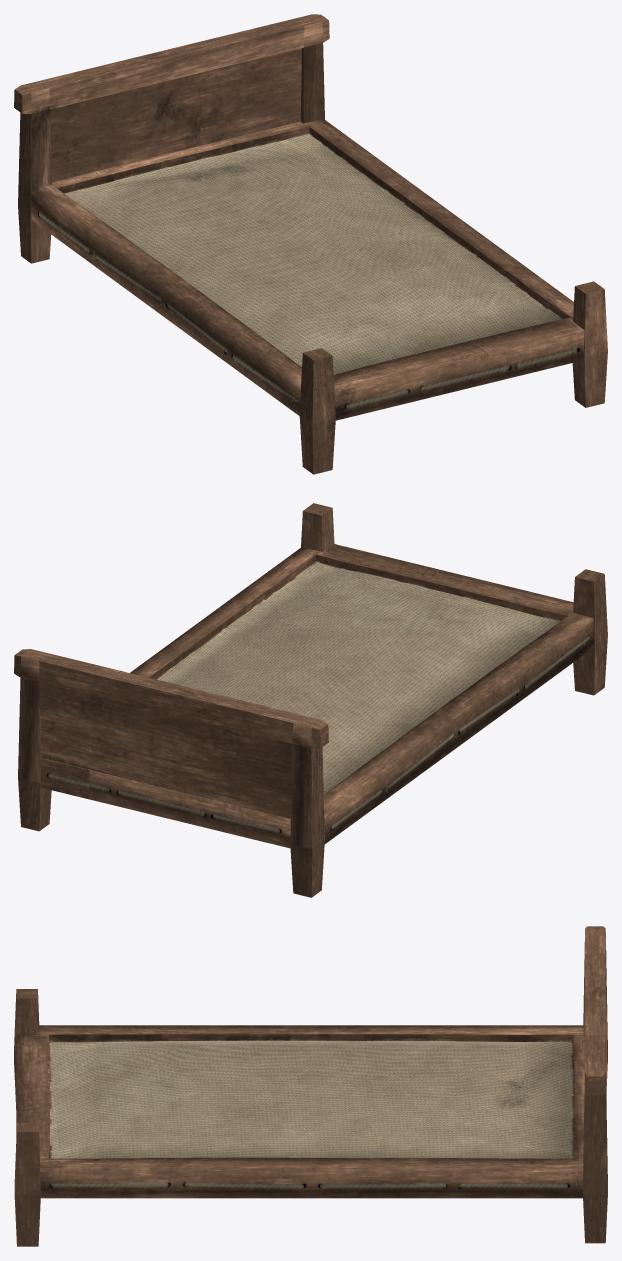
Rendered from Bed.fbx.
3 renders of one model, top to bottom at view 1: azimuth 30°, elevation 25°; view 2: azimuth 150°, elevation 25°; view 3: azimuth 270°, elevation 25°, orthographic.
Parts seen in each view (by area): view 1: Bed; view 2: Bed; view 3: Bed.
Part boxes in pixels (x1,y1,x2,y2): Bed: (14,14,607,474); Bed: (14,503,607,897); Bed: (14,926,607,1246).
Size of the model in its own units: 157 by 85 by 261.
